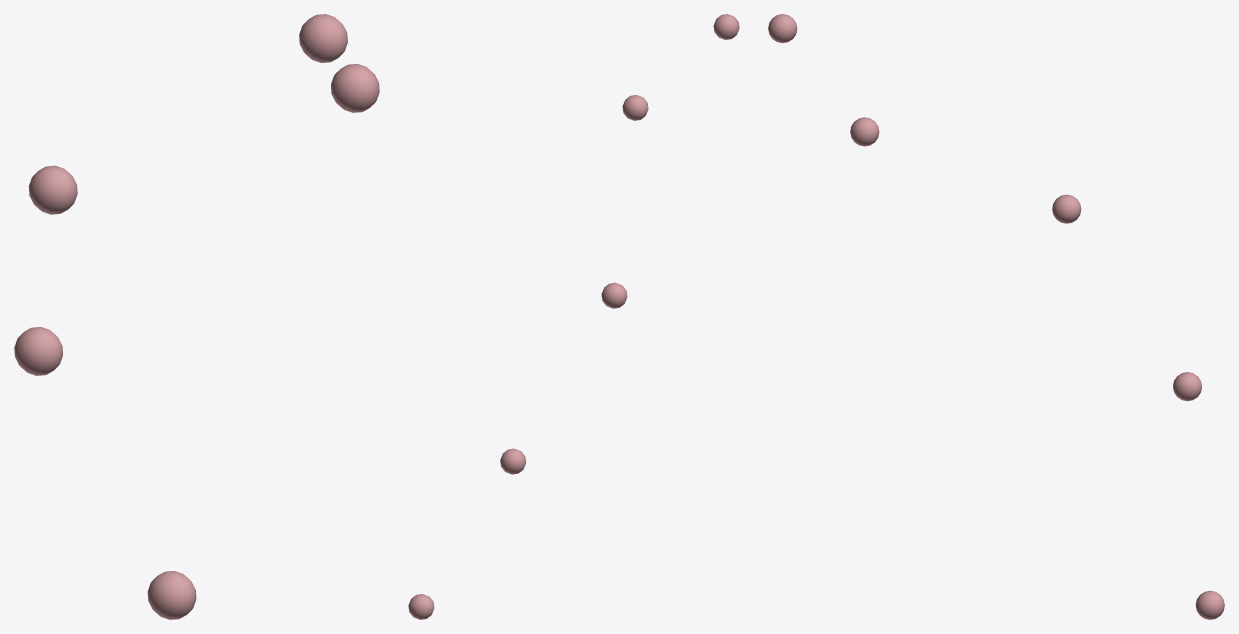
3 views of the same model, side by side, from view 1: azimuth 30°, elevation 25°; view 2: azimuth 150°, elevation 25°; view 3: azimuth 270°, elevation 25° (orthographic). The views are drawn at different scales.
Visible parts, largest first — view 1: ZA_b5b752083e5904eb; view 2: ZA_b5b752083e5904eb; view 3: ZA_b5b752083e5904eb.
Part boxes in pixels (x1,y1,x2,y2): ZA_b5b752083e5904eb: (14, 14, 379, 619); ZA_b5b752083e5904eb: (408, 14, 739, 619); ZA_b5b752083e5904eb: (768, 14, 1224, 619).
Size of the model in its own units: 0.0171 by 0.0531 by 0.0406.
